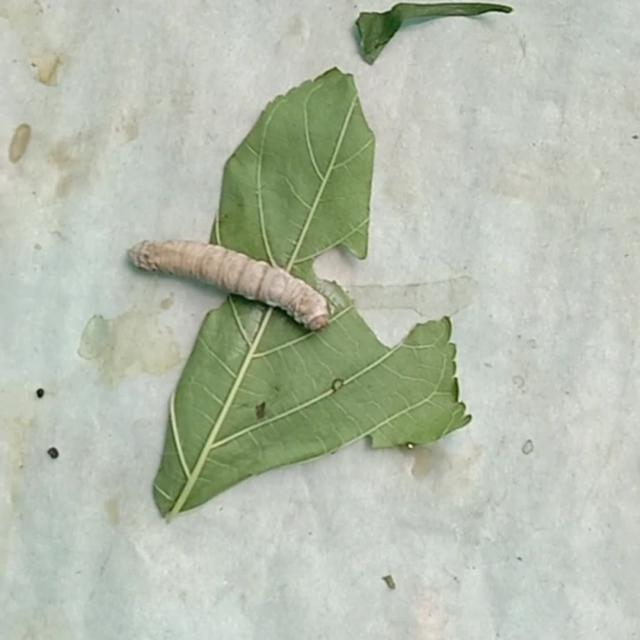Grasserie: (106, 182, 346, 356)
